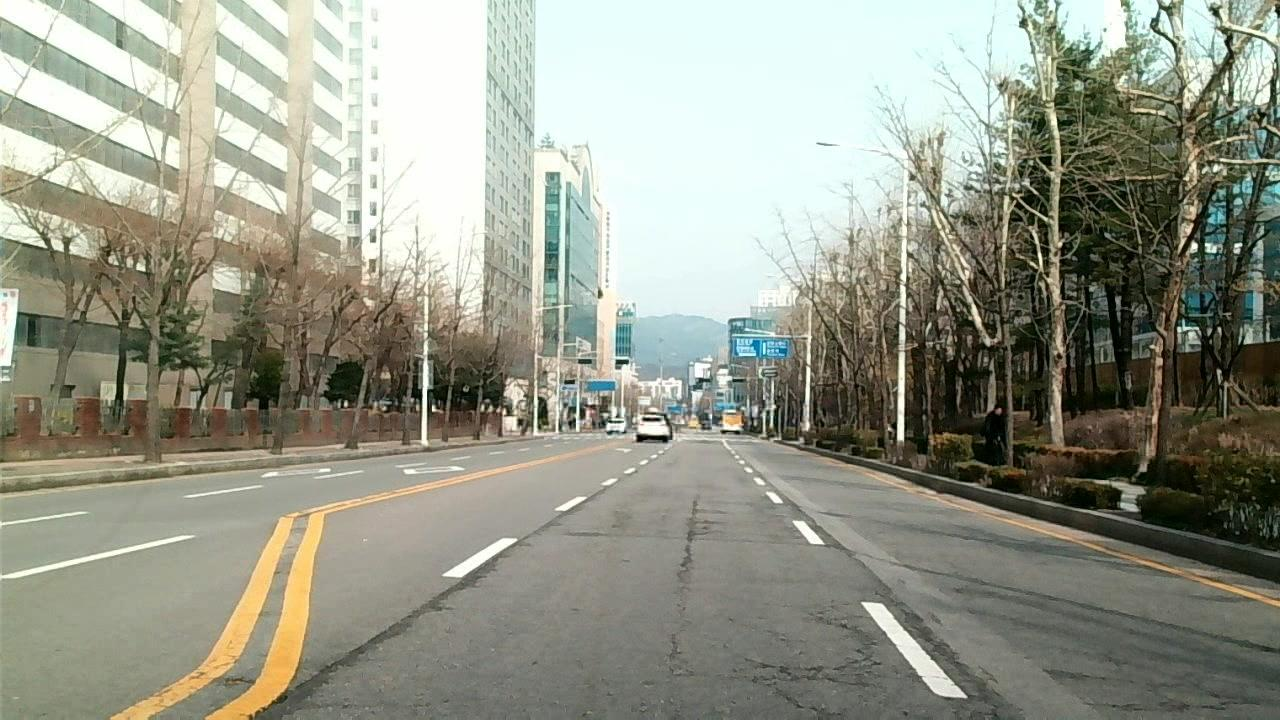erosion: (899, 598, 1015, 719), (1051, 659, 1273, 720)
vcrack: (243, 555, 495, 720), (664, 486, 703, 674), (810, 607, 882, 672), (751, 675, 844, 720)
